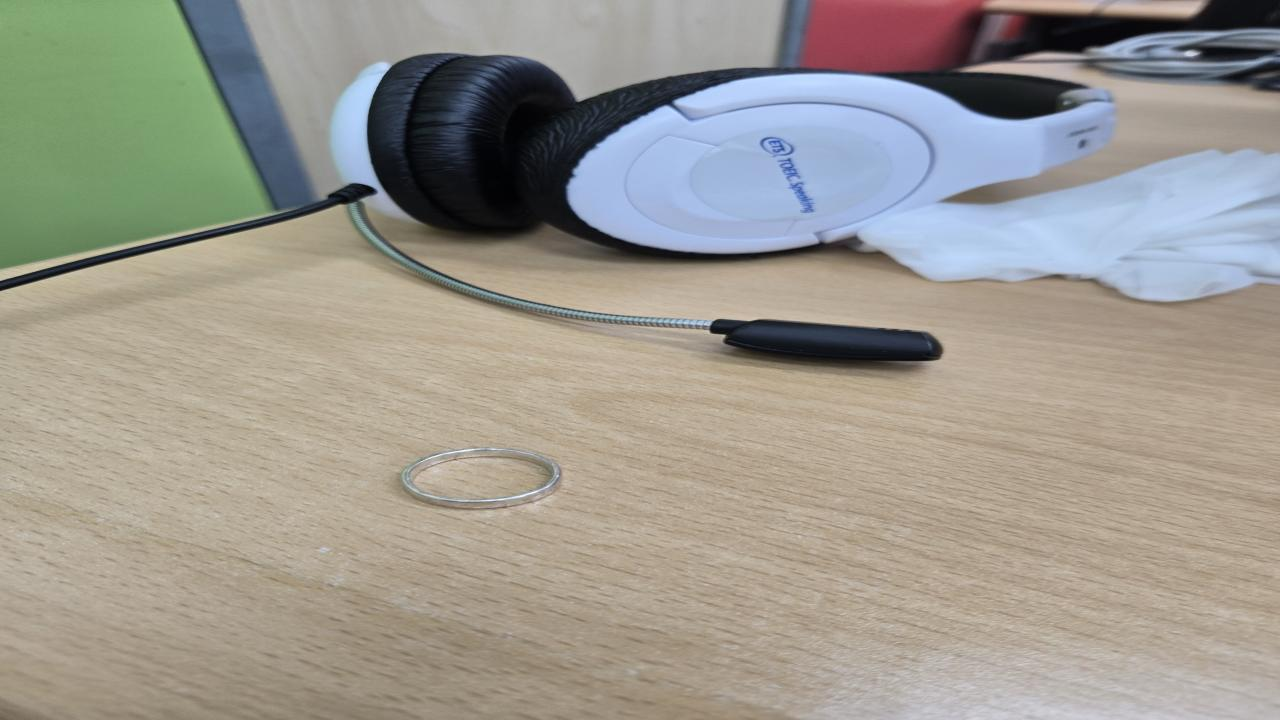ring: (394, 445, 567, 511)
